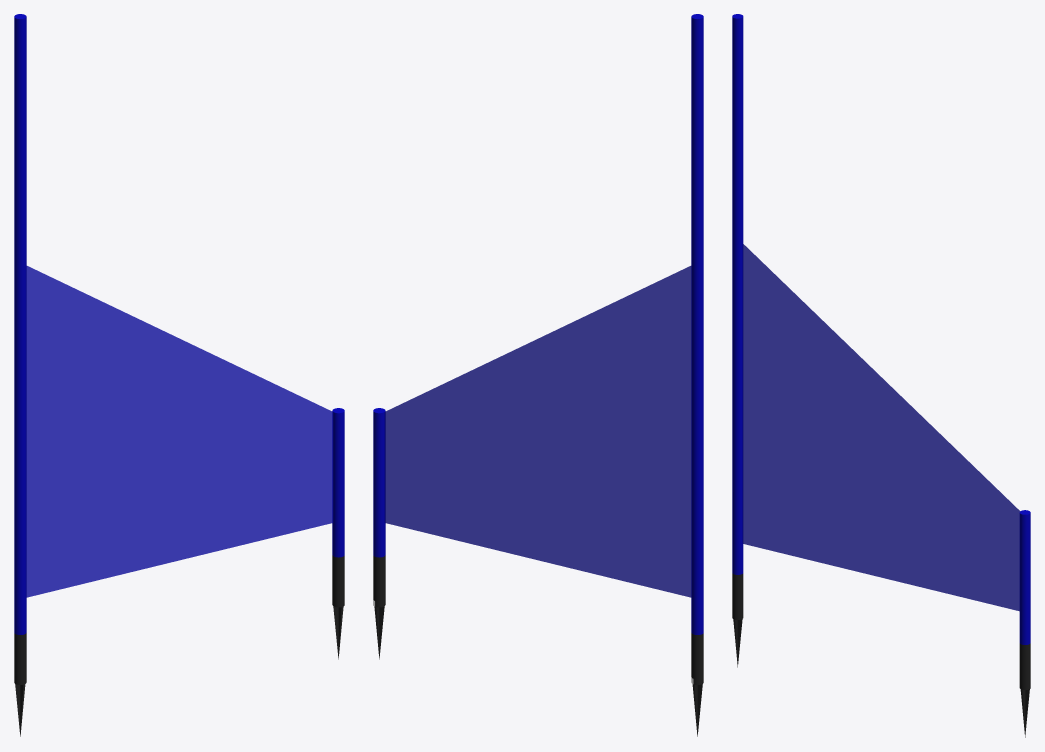
The model's file is Snowboard+Gate+Blue.fbx.
3 renders of one model, left to right at view 1: azimuth 30°, elevation 25°; view 2: azimuth 150°, elevation 25°; view 3: azimuth 330°, elevation 25°, orthographic. The views are drawn at different scales.
Parts seen in each view (by area): view 1: Model; view 2: Model; view 3: Model.
Boxes of the visible parts, x1=… form: Model: x1=14, y1=14, x2=344, y2=736; Model: x1=373, y1=14, x2=703, y2=736; Model: x1=732, y1=14, x2=1030, y2=737.
Size of the model in its own units: 3.1 by 6.5 by 0.1.
